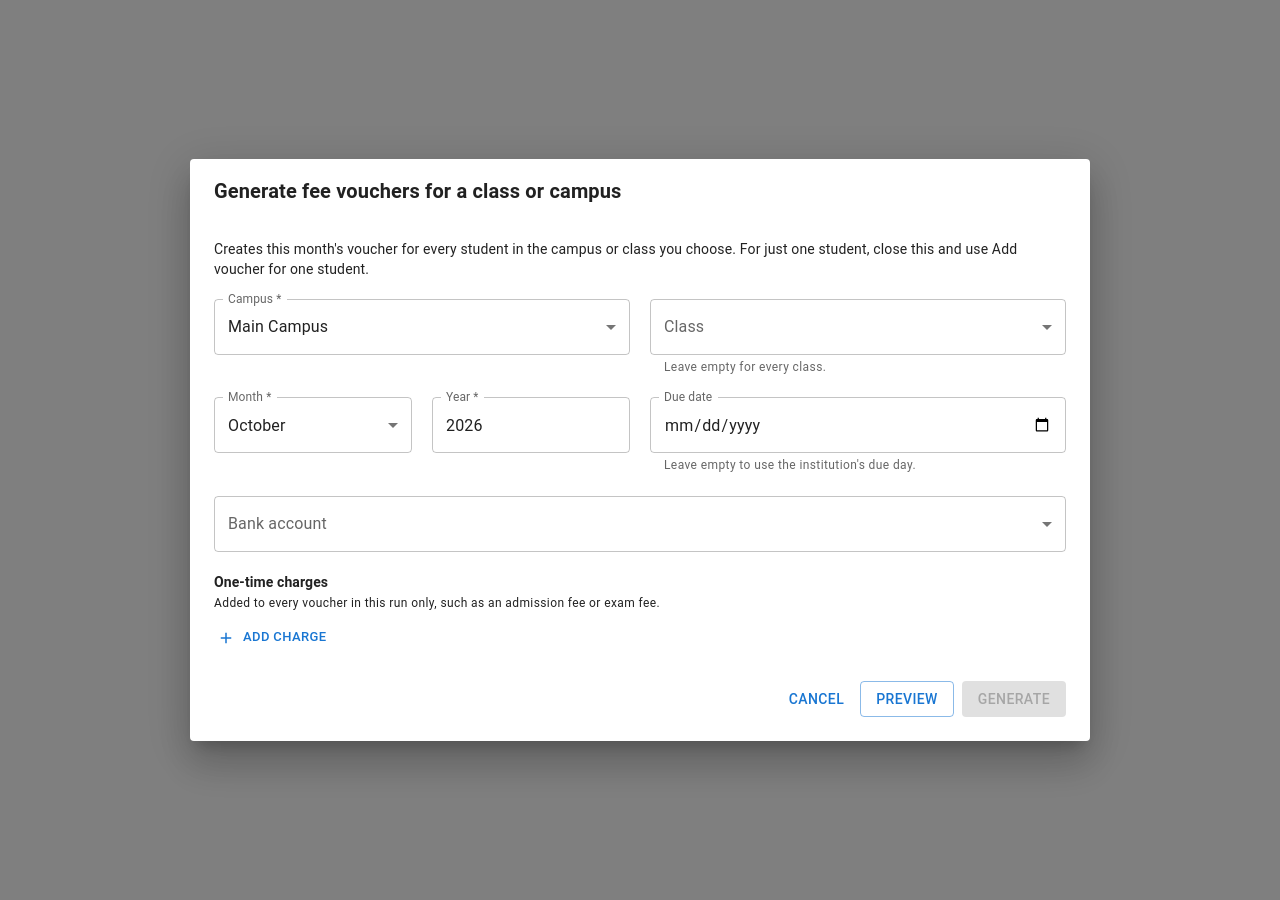
Scenario: GenerateVouchersDialog › lists who is skipped and who needs attention, with the reason
Click the button "Preview": click(907, 699) [860,681,954,718]
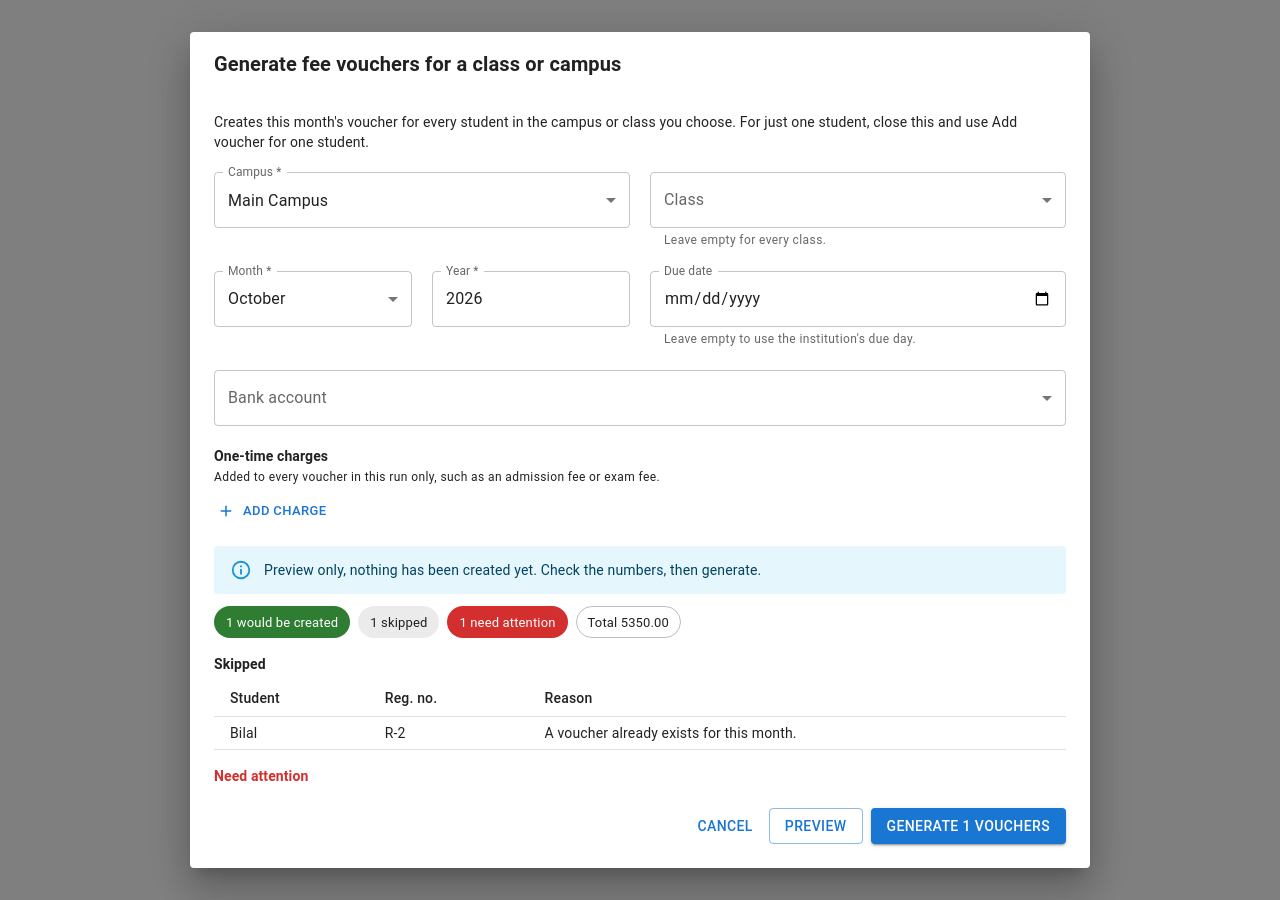
Now the text "Bilal" is shown, box [214,717,369,750]
Now the text "A voucher already exists for this month." is shown, box [529,717,1066,750]
Now the text "1 need attention" is shown, box [459,615,556,630]
